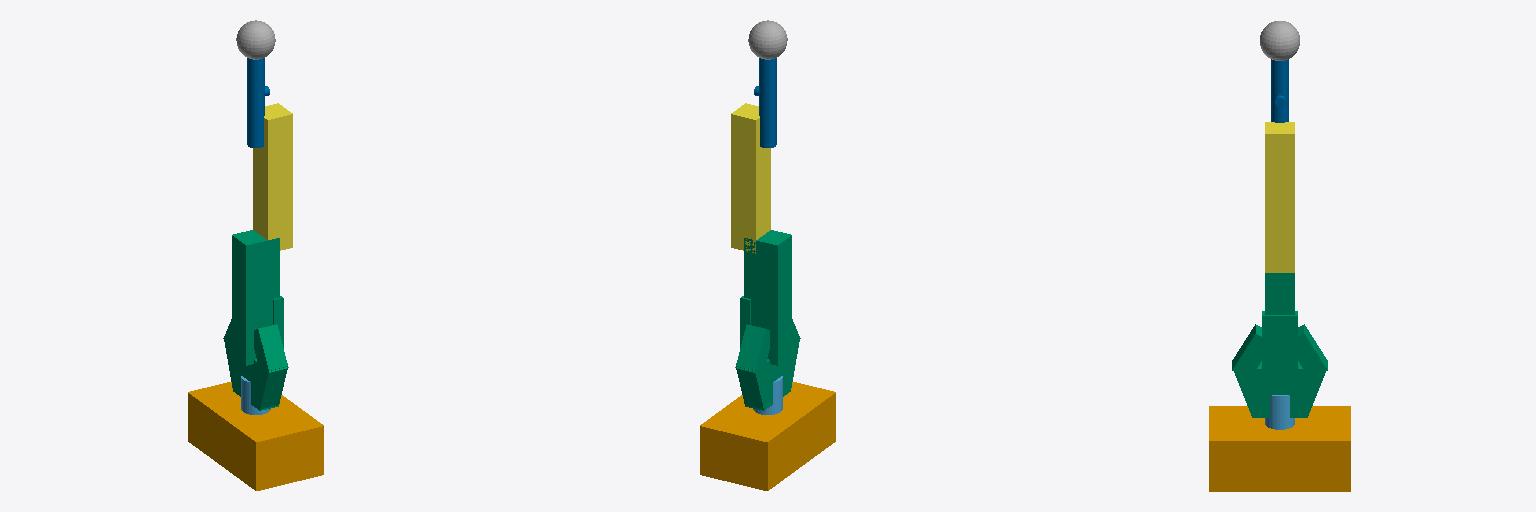
URDF robot description (r12):
<?xml version="1.0"?>
<robot name="r12">
	<link name="base_link">
		<visual>
			<origin rpy="0 0 0" xyz="0 0 0.04"/>
			<geometry>
				<box size="0.16 0.28 0.11"/>
			</geometry>
		</visual>
		<collision>
			<origin rpy="0 0 0" xyz="0 0 0.04"/>
			<geometry>
				<box size="0.16 0.28 0.11"/>
			</geometry>
		</collision>
	</link>

	<joint name="waist_joint" type="revolute">
		<parent link="base_link"/>
		<child link="waist_shoulder_link"/>
		<origin xyz="0 0 0.0925" rpy="0 0 0"/>
		<limit lower="-1.57079" upper="1.57079" effort="0.1" velocity="2"/>
		<axis xyz="0 0 -1"/>
	</joint>

	<link name="waist_shoulder_link">
		<visual>
			<origin rpy="0 0 0" xyz="0 0 0"/>
			<geometry>
				<cylinder radius="0.03" length="0.15"/>
			</geometry>
		</visual>
		<!--visual>
            <origin rpy="0 0 0" xyz="0.055 0 0.1315"/>
            <geometry>
                <box size="0.02 0.06 0.238"/>
            </geometry>
        </visua l-->
		<collision>
			<origin rpy="0 0 0" xyz="0 0 0"/>
			<geometry>
				<cylinder radius="0.03" length="0.15"/>
			</geometry>
		</collision>
		<!--collision>
            <origin rpy="0 0 0" xyz="0.055 0 0.1315"/>
            <geometry>
                <box size="0.02 0.06 0.238"/>
            </geometry>
        </collision-->
	</link>

	<joint name="shoulder_joint" type="revolute">
		<parent link="waist_shoulder_link"/>
		<child link="shoulder_elbow_link"/>
		<origin xyz="0 0 0.2105" rpy="0 0 0"/>
		<limit lower="-1.57079" upper="0" effort="0.1" velocity="2"/>
		<axis xyz="-1 0 0"/>
	</joint>

	<link name="shoulder_elbow_link">
		<visual>
			<origin rpy="0 0 0" xyz="0 0 0.045"/>
			<geometry>
				<box size="0.08 0.06 0.27"/>
			</geometry>
		</visual>
		<visual>
			<origin rpy="0 0 0" xyz="0 0 -0.1325"/>
			<geometry>
				<box size="0.045 0.11094 0.105"/>
			</geometry>
		</visual>
		<visual>
			<origin rpy="0 0 0" xyz="0.03375 0 -0.03"/>
			<geometry>
				<box size="0.0225 0.07 0.15"/>
			</geometry>
		</visual>
		<visual>
			<origin rpy="-1.0472 0 0" xyz="0 0.053659 -0.053333"/>
			<geometry>
				<box size="0.045 0.092376 0.04"/>
			</geometry>
		</visual>
		<visual>
			<origin rpy="-0.349 0 0" xyz="0 0.053 -0.12506"/>
			<geometry>
				<box size="0.045 0.043403 0.111739"/>
			</geometry>
		</visual>
		<visual>
			<origin rpy="1.0472 0 0" xyz="0 -0.053659 -0.053333"/>
			<geometry>
				<box size="0.045 0.092376 0.04"/>
			</geometry>
		</visual>
		<visual>
			<origin rpy="0.349 0 0" xyz="0 -0.053 -0.12506"/>
			<geometry>
				<box size="0.045 0.043403 0.111739"/>
			</geometry>
		</visual>
		<collision>
			<origin rpy="0 0 0" xyz="0 0 0.045"/>
			<geometry>
				<box size="0.08 0.06 0.27"/>
			</geometry>
		</collision>
		<collision>
			<origin rpy="0 0 0" xyz="0 0 -0.1325"/>
			<geometry>
				<box size="0.045 0.11094 0.105"/>
			</geometry>
		</collision>
		<collision>
			<origin rpy="-1.0472 0 0" xyz="0 0.053659 -0.053333"/>
			<geometry>
				<box size="0.045 0.092376 0.04"/>
			</geometry>
		</collision>
		<collision>
			<origin rpy="-0.349 0 0" xyz="0 0.053 -0.12506"/>
			<geometry>
				<box size="0.045 0.043403 0.111739"/>
			</geometry>
		</collision>
		<collision>
			<origin rpy="1.0472 0 0" xyz="0 -0.053659 -0.053333"/>
			<geometry>
				<box size="0.045 0.092376 0.04"/>
			</geometry>
		</collision>
		<collision>
			<origin rpy="0.349 0 0" xyz="0 -0.053 -0.12506"/>
			<geometry>
				<box size="0.045 0.043403 0.111739"/>
			</geometry>
		</collision>
		<collision>
			<origin rpy="0 0 0" xyz="0.03375 0 -0.03"/>
			<geometry>
				<box size="0.0225 0.07 0.15"/>
			</geometry>
		</collision>
	</link>

	<joint name="elbow_joint" type="revolute">
		<parent link="shoulder_elbow_link"/>
		<child link="elbow_hand_link"/>
		<origin xyz="0.04 0 0.25" rpy="0 0 0"/>
		<limit lower="0" upper="1.57079" effort="0.1" velocity="2"/>
		<axis xyz="1 0 0"/>
	</joint>

	<link name="elbow_hand_link">
		<visual>
			<origin rpy="0 0 0" xyz="0 0 0.05"/>
			<geometry>
				<box size="0.06 0.06 0.3"/>
			</geometry>
		</visual>
		<visual>
			<origin rpy="0 -1.5708 0" xyz="-0.015 0 0"/>
			<geometry>
				<cylinder radius="0.02" length="0.005"/>
			</geometry>
		</visual>
		<collision>
			<origin rpy="0 0 0" xyz="0 0 0.05"/>
			<geometry>
				<box size="0.06 0.06 0.3"/>
			</geometry>
		</collision>
		<collision>
			<origin rpy="0 -1.5708 0" xyz="-0.015 0 0"/>
			<geometry>
				<cylinder radius="0.02" length="0.005"/>
			</geometry>
		</collision>
	</link>

	<joint name="hand_joint" type="revolute">
		<parent link="elbow_hand_link"/>
		<child link="hand_wrist_link"/>
		<origin xyz="-0.04 0 0.25" rpy="0 0 0"/>
		<limit lower="0" upper="1.57079" effort="0.1" velocity="2"/>
		<axis xyz="1 0 0"/>
	</joint>

	<link name="hand_wrist_link">
		<visual>
			<origin rpy="0 0 0" xyz="0 0 0"/>
			<geometry>
				<cylinder radius="0.0175" length="0.23"/>
			</geometry>
		</visual>
		<visual>
			<origin rpy="0 -1.5708 0" xyz="0.01375 0 0"/>
			<geometry>
				<cylinder radius="0.01" length="0.0275"/>
			</geometry>
		</visual>
		<collision>
			<origin rpy="0 0 0" xyz="0 0 0"/>
			<geometry>
				<cylinder radius="0.0175" length="0.23"/>
			</geometry>
		</collision>
		<collision>
			<origin rpy="0 -1.5708 0" xyz="0.01375 0 0"/>
			<geometry>
				<cylinder radius="0.01" length="0.0275"/>
			</geometry>
		</collision>
	</link>

	<joint name="wrist_joint" type="revolute">
		<parent link="hand_wrist_link"/>
		<child link="wrist_tool_link"/>
		<origin xyz="0 0 0.10" rpy="0 0 0"/>
		<limit lower="-3.14159" upper="3.14159" effort="0.1" velocity="0.005"/>
		<axis xyz="0 0 1"/>
	</joint>

	<link name="wrist_tool_link">
		<visual>
			<origin rpy="0 0 0" xyz="0 0 0.01"/>
			<geometry>
				<cylinder radius="0.0175" length="0.02"/>
			</geometry>
		</visual>
		<collision>
			<origin rpy="0 0 0" xyz="0 0 0.01"/>
			<geometry>
				<cylinder radius="0.0175" length="0.02"/>
			</geometry>
		</collision>
	</link>
	
	<link name="end_link" />
	
	<joint name="end_joint" type="fixed">
        <origin rpy="0 0 0" xyz="0 0 0" />
        <parent link="wrist_tool_link" />
        <child link="end_link" />
        <axis xyz="0 0 0" />
    </joint>
    
    <link name="end_point">
        <visual>
            <geometry>
                <sphere radius="0.04" />
            </geometry>
        </visual>
        <collision>
            <geometry>
               <sphere radius="0.04" />
            </geometry>
        </collision>
    </link>
    
    <joint name="final_joint" type="fixed">
        <origin rpy="0 0 0" xyz="0 0 0.02" />
        <parent link="end_link" />
        <child link="end_point" />
        <axis xyz="0 0 0" />
    </joint>
	
	
	

</robot>

--- Facts derived from the render (not from the file) ---
3 views of the same robot in one strip: view 1: azimuth 30°, elevation 25°; view 2: azimuth 150°, elevation 25°; view 3: azimuth 270°, elevation 25° (orthographic).
Robot: r12 — 8 links, 7 joints (5 revolute, 2 fixed); root link base_link; default pose: all joints at 0.
Links seen in each view (by area): view 1: base_link, shoulder_elbow_link, elbow_hand_link, hand_wrist_link, end_point; view 2: base_link, shoulder_elbow_link, elbow_hand_link, hand_wrist_link, end_point; view 3: base_link, shoulder_elbow_link, elbow_hand_link, end_point, hand_wrist_link, waist_shoulder_link.
Link boxes in pixels (left/top/right/bottom): base_link: left=188, top=382, right=323, bottom=490; shoulder_elbow_link: left=223, top=230, right=288, bottom=410; elbow_hand_link: left=253, top=103, right=292, bottom=250; hand_wrist_link: left=247, top=58, right=269, bottom=147; end_point: left=236, top=20, right=275, bottom=59; base_link: left=700, top=382, right=835, bottom=490; shoulder_elbow_link: left=735, top=230, right=800, bottom=410; elbow_hand_link: left=731, top=103, right=770, bottom=253; hand_wrist_link: left=754, top=58, right=776, bottom=147; end_point: left=748, top=20, right=787, bottom=59; base_link: left=1209, top=406, right=1350, bottom=491; shoulder_elbow_link: left=1232, top=273, right=1327, bottom=417; elbow_hand_link: left=1265, top=122, right=1294, bottom=272; end_point: left=1260, top=21, right=1299, bottom=60; hand_wrist_link: left=1271, top=59, right=1288, bottom=122; waist_shoulder_link: left=1265, top=395, right=1294, bottom=429.
Size in the robot's own frame: 0.16 by 0.28 by 0.978 metres.
Geometry: primitives only (box / cylinder / sphere), no mesh files.